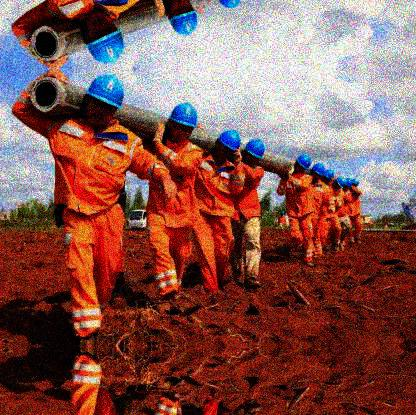helmet: (86, 74, 122, 132), (86, 12, 125, 61), (166, 102, 196, 144), (168, 1, 199, 36), (212, 129, 239, 166), (241, 139, 263, 169), (294, 156, 310, 174), (312, 164, 326, 183), (334, 176, 346, 190)
